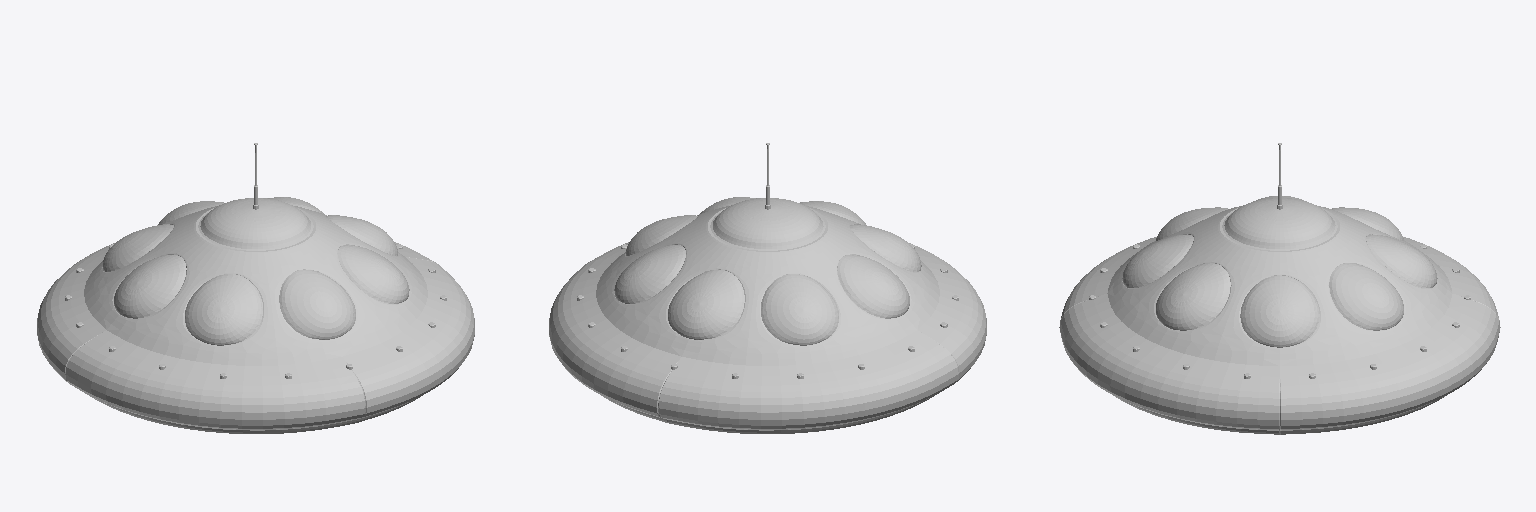
The model's file is CenterObject.obj.
3 renders of one model, left to right at view 1: azimuth 30°, elevation 25°; view 2: azimuth 150°, elevation 25°; view 3: azimuth 270°, elevation 25°, orthographic.
Visible parts, largest first — view 1: UFO_01_Saucer, UFO_01_Windows; view 2: UFO_01_Saucer, UFO_01_Windows; view 3: UFO_01_Saucer, UFO_01_Windows.
Boxes of the visible parts, box(x1,y1,x2,y2) form: UFO_01_Saucer: box(37, 198, 474, 433); UFO_01_Windows: box(102, 197, 409, 345); UFO_01_Saucer: box(549, 198, 986, 433); UFO_01_Windows: box(614, 197, 921, 345); UFO_01_Saucer: box(1059, 198, 1500, 434); UFO_01_Windows: box(1122, 196, 1437, 347).
Bounding box in the file's own units: 414 × 233 × 414.